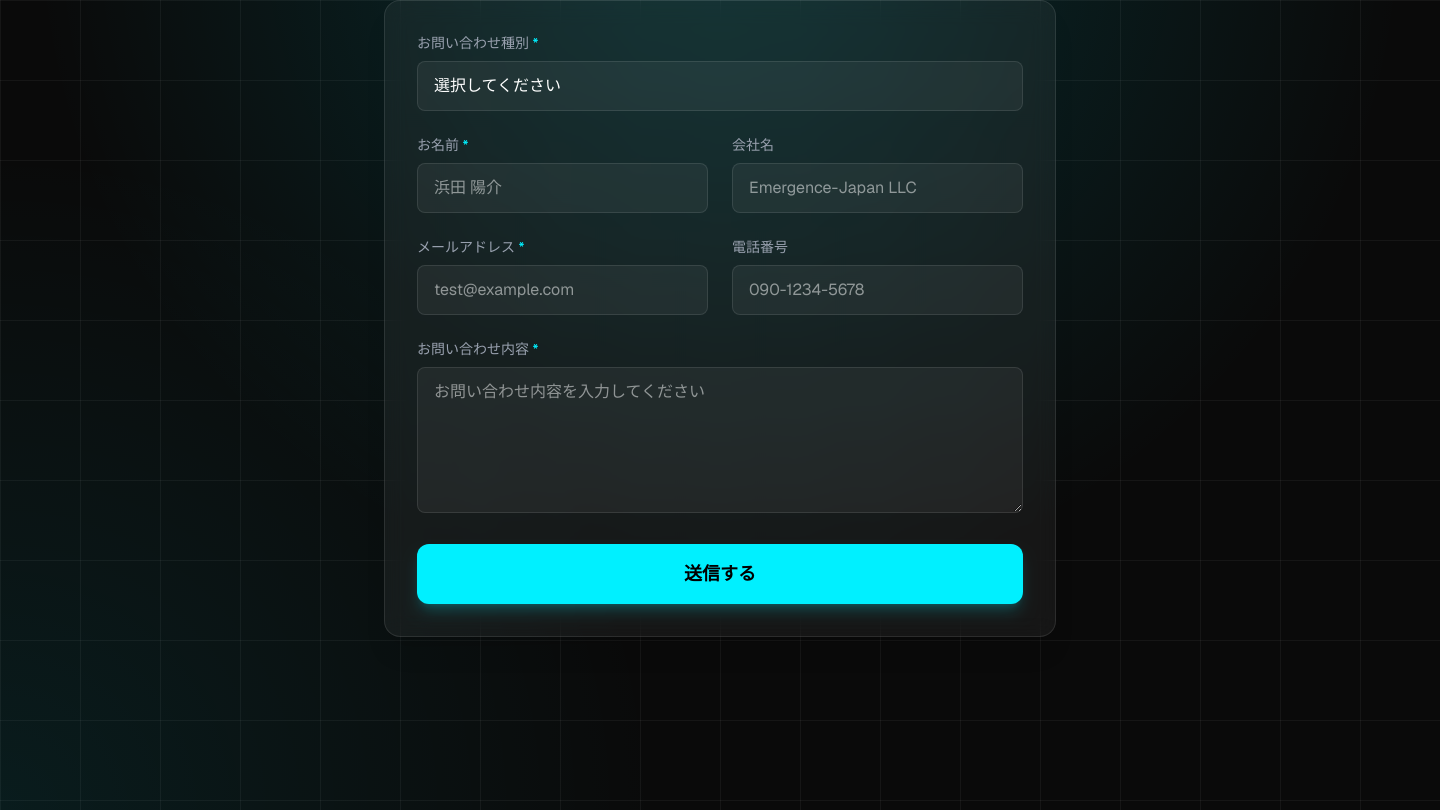
it: ContactForm › shows error messages on invalid submission
Click the button "送信する": (720, 574) [417, 544, 1023, 604]
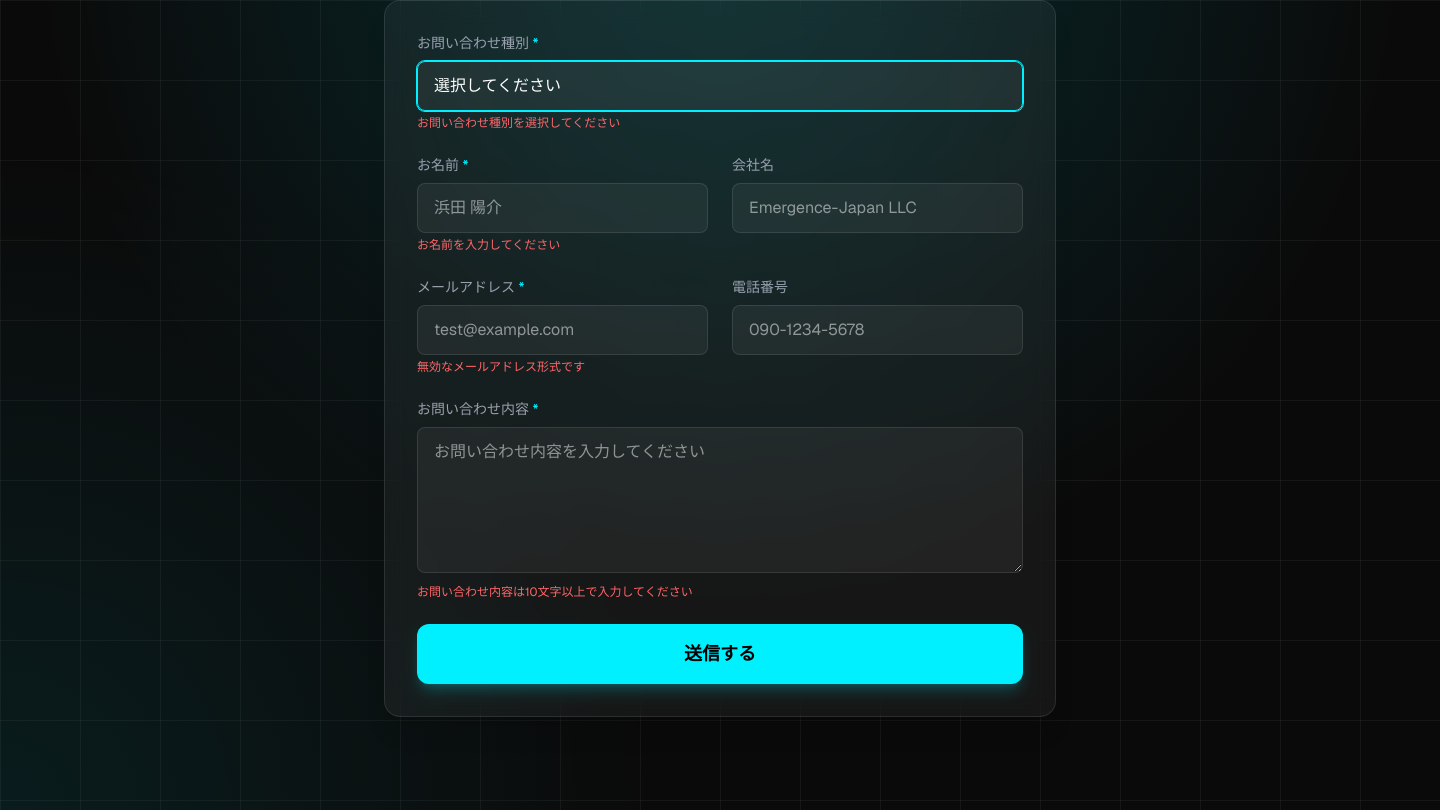
Now the text "お問い合わせ種別を選択してください" is shown, box [417, 115, 620, 131]
Now the text "お名前を入力してください" is shown, box [417, 237, 560, 253]
Now the text "無効なメールアドレス形式です" is shown, box [417, 359, 585, 375]
